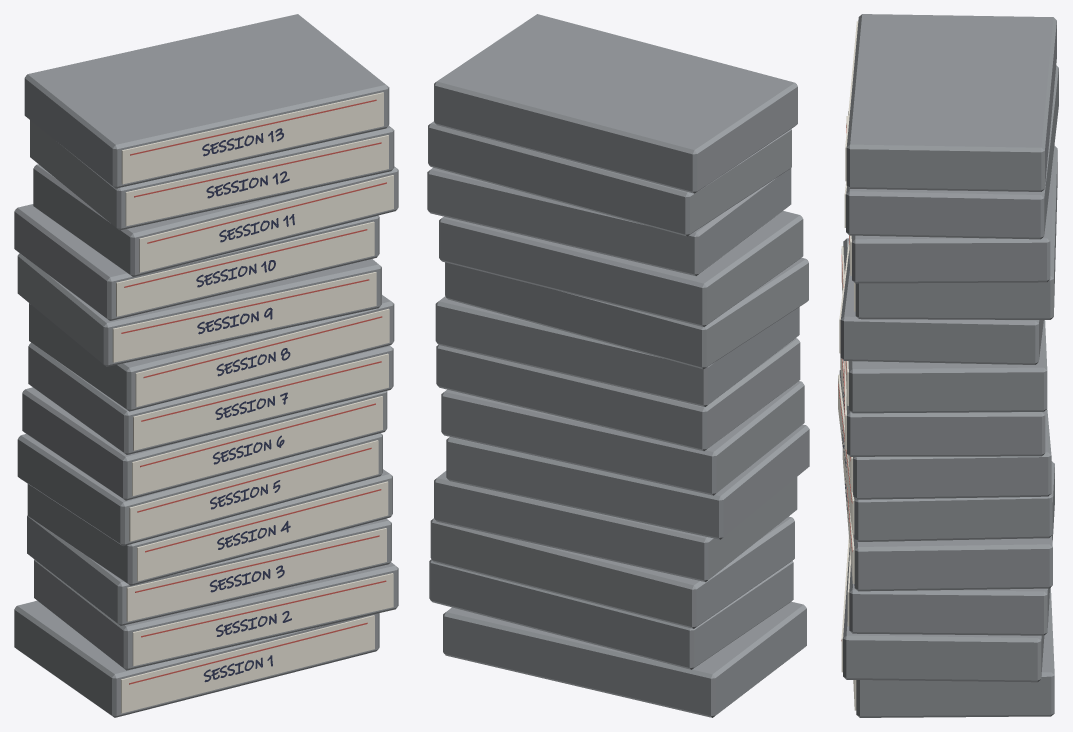
The model's file is cassette_stack.glb.
3 views of the same model, side by side, from view 1: azimuth 30°, elevation 25°; view 2: azimuth 150°, elevation 25°; view 3: azimuth 270°, elevation 25° (orthographic).
Parts seen in each view (by area): view 1: CassetteCaseShells, CassetteCaseCards, CassetteCaseRules; view 2: CassetteCaseShells; view 3: CassetteCaseShells, CassetteCaseCards.
Boxes of the visible parts, x1,y1,x2,y2 form: CassetteCaseShells: [14, 14, 398, 717]; CassetteCaseCards: [112, 92, 393, 713]; CassetteCaseRules: [121, 99, 386, 684]; CassetteCaseShells: [427, 14, 809, 717]; CassetteCaseShells: [839, 14, 1058, 717]; CassetteCaseCards: [838, 21, 858, 710].
Size of the model in its own units: 0.1191 by 0.221 by 0.0768.
